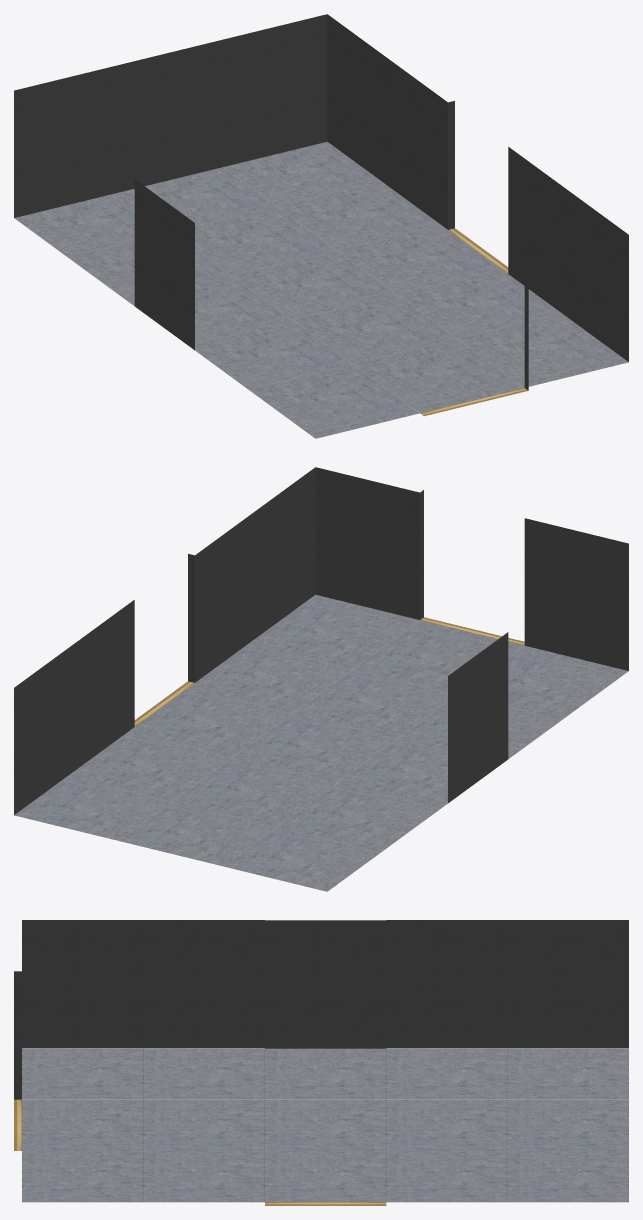
Rendered from northwest-room.glb.
The picture shows the model from 3 angles, top to bottom: view 1: azimuth 30°, elevation 25°; view 2: azimuth 150°, elevation 25°; view 3: azimuth 270°, elevation 25°; orthographic projection.
Parts seen in each view (by area): view 1: HallNorthwest_Floor, HallNorthwest_Walls; view 2: HallNorthwest_Floor, HallNorthwest_Walls; view 3: HallNorthwest_Floor, HallNorthwest_Walls.
Boxes of the visible parts, x1,y1,x2,y2 form: HallNorthwest_Floor: (14, 141, 628, 438); HallNorthwest_Walls: (14, 14, 628, 390); HallNorthwest_Floor: (14, 594, 628, 891); HallNorthwest_Walls: (14, 467, 628, 814); HallNorthwest_Floor: (14, 1048, 628, 1205); HallNorthwest_Walls: (14, 920, 628, 1099).
Size of the model in its own units: 9.2 by 3.5 by 15.2.
Materials: 1 (1 with a texture image).
